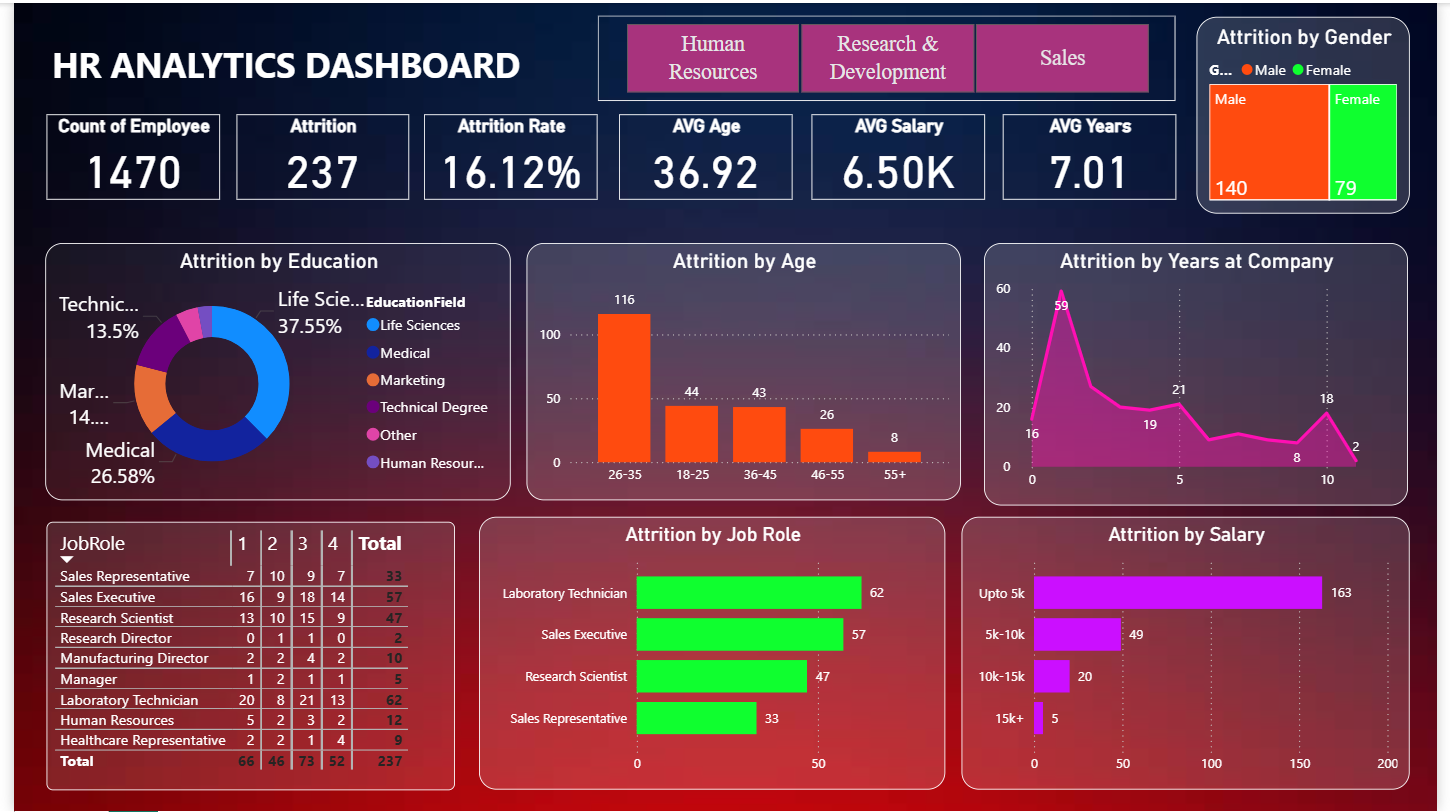

Layout of this report page (visuals, bound fields, positions):
{"tool":"powerbi","page":{"name":"Page 1","canvas":[1318,749],"ordinal":0},"visuals":[{"type":"card","title":"Count of Employee","fields":{"Values":["CountNonNull(HR_Analytics.EmpID)"]},"box":[29.7,103.1,161.1,79.1],"z":0},{"type":"card","title":"Attrition Rate","fields":{"Values":["HR_Analytics.AttritionRate"]},"box":[380.1,103.1,161.1,79.1],"z":1000},{"type":"card","title":"Attrition","fields":{"Values":["Sum(HR_Analytics.AttritionCount)"]},"box":[206.3,103.1,159.7,79.1],"z":2000},{"type":"card","title":"AVG Age","fields":{"Values":["Avg(HR_Analytics.Age)"]},"box":[560.9,103.1,161.1,79.1],"z":3000},{"type":"card","title":"AVG Salary","fields":{"Values":["Avg(HR_Analytics.MonthlyIncome)"]},"box":[739,103.1,161.1,79.1],"z":4000},{"type":"card","title":"AVG Years","fields":{"Values":["Avg(HR_Analytics.YearsAtCompany)"]},"box":[915.6,103.1,161.1,79.1],"z":5000},{"type":"donutChart","title":"Attrition by Education","fields":{"Category":["HR_Analytics.EducationField"],"Y":["Sum(HR_Analytics.AttritionCount)"]},"box":[29.4,222.1,431.4,238.7],"z":6000},{"type":"columnChart","title":"Attrition by Age","fields":{"Category":["HR_Analytics.AgeGroup"],"Y":["Sum(HR_Analytics.AttritionCount)"]},"box":[474.8,221.8,402.7,238.8],"z":7000},{"type":"pivotTable","fields":{"Rows":["HR_Analytics.JobRole"],"Columns":["HR_Analytics.JobSatisfaction"],"Values":["Sum(HR_Analytics.AttritionCount)"]},"box":[29.7,480.4,378.7,248.7],"z":7001},{"type":"barChart","title":"Attrition by Salary","fields":{"Category":["HR_Analytics.SalarySlab"],"Y":["Sum(HR_Analytics.AttritionCount)"]},"box":[877.4,476.2,415.4,252.9],"z":7002},{"type":"barChart","title":"Attrition by Job Role","fields":{"Y":["Sum(HR_Analytics.AttritionCount)"],"Category":["HR_Analytics.JobRole"]},"box":[431,476.2,432.4,252.9],"z":7003},{"type":"areaChart","title":"Attrition by Years at Company","fields":{"Category":["HR_Analytics.YearsAtCompany"],"Y":["Sum(HR_Analytics.AttritionCount)"]},"box":[898.6,221.8,392.8,243],"z":7004},{"type":"treemap","title":"Attrition by Gender","fields":{"Group":["HR_Analytics.Gender"],"Values":["Sum(HR_Analytics.AttritionCount)"]},"box":[1095,12.7,197.8,182.3],"z":7005},{"type":"textbox","box":[29.7,29.7,473.3,60.8],"z":7006},{"type":"slicer","title":"Department","fields":{"Values":["HR_Analytics.Department"]},"box":[541.2,11.3,535.5,79.1],"z":7007}]}

Visuals, with their boxes in screenshot pixels (x1, y1, x2, y2), scaled from the page's 1318x749 canvas onto the 1450x812 screenshot:
"Count of Employee" card: {"x1": 33, "y1": 112, "x2": 210, "y2": 198}
"Attrition Rate" card: {"x1": 418, "y1": 112, "x2": 595, "y2": 198}
"Attrition" card: {"x1": 227, "y1": 112, "x2": 403, "y2": 198}
"AVG Age" card: {"x1": 617, "y1": 112, "x2": 794, "y2": 198}
"AVG Salary" card: {"x1": 813, "y1": 112, "x2": 990, "y2": 198}
"AVG Years" card: {"x1": 1007, "y1": 112, "x2": 1185, "y2": 198}
"Attrition by Education" donutChart: {"x1": 32, "y1": 241, "x2": 507, "y2": 500}
"Attrition by Age" columnChart: {"x1": 522, "y1": 240, "x2": 965, "y2": 499}
pivotTable - HR_Analytics.JobRole x HR_Analytics.JobSatisfaction: {"x1": 33, "y1": 521, "x2": 449, "y2": 790}
"Attrition by Salary" barChart: {"x1": 965, "y1": 516, "x2": 1422, "y2": 790}
"Attrition by Job Role" barChart: {"x1": 474, "y1": 516, "x2": 950, "y2": 790}
"Attrition by Years at Company" areaChart: {"x1": 989, "y1": 240, "x2": 1421, "y2": 504}
"Attrition by Gender" treemap: {"x1": 1205, "y1": 14, "x2": 1422, "y2": 211}
textbox: {"x1": 33, "y1": 32, "x2": 553, "y2": 98}
"Department" slicer: {"x1": 595, "y1": 12, "x2": 1185, "y2": 98}
